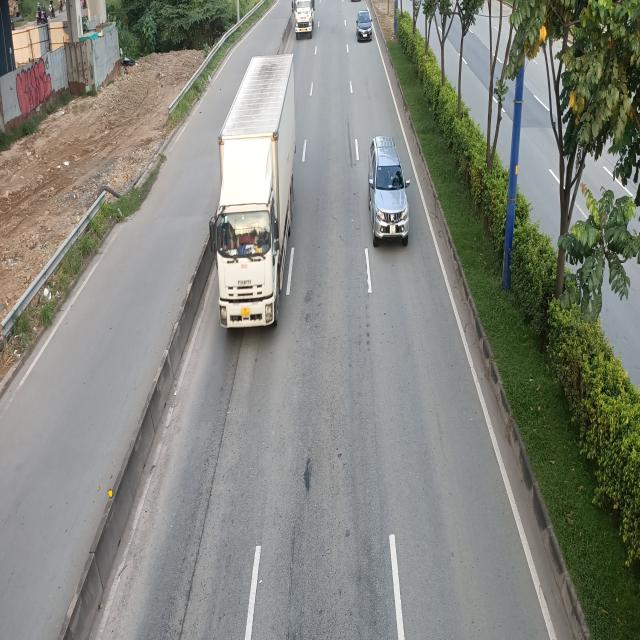car: (366, 138, 408, 248), (357, 10, 372, 41)
truck: (210, 52, 298, 335), (292, 0, 314, 38)
